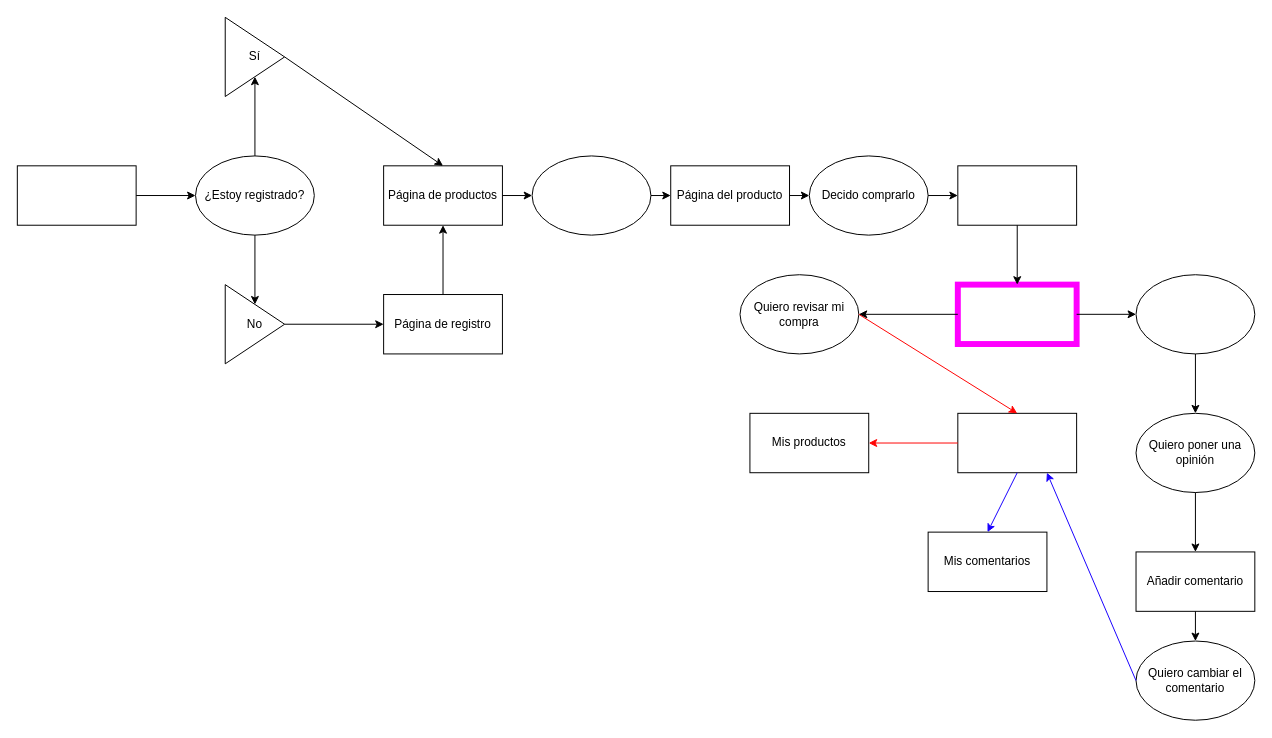
Some shapes in this 1272 by 738 pixel diagram are drawn without their labels. The shapes that lost their labels are listed below. From the top down, each one's box as (x1, y1, x2, y2) in pixels, then its label:
(16, 165, 136, 225): Landing page
(531, 155, 651, 235): Elijo un producto
(957, 165, 1077, 225): Página de compra
(954, 281, 1079, 346): Compra realizada
(1135, 274, 1255, 354): Hago la visita
(957, 412, 1077, 473): Menú
